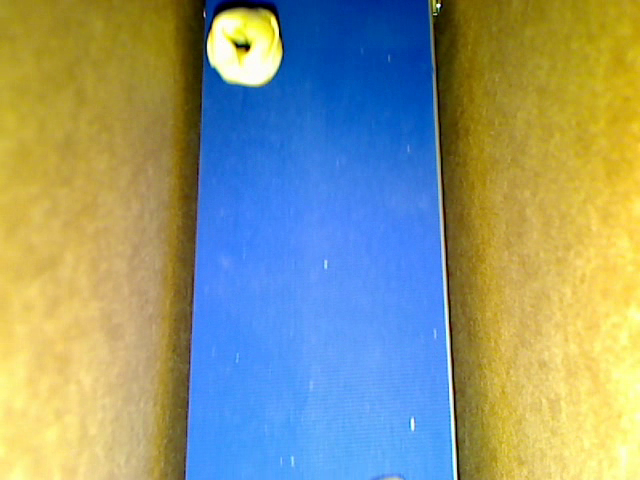tortellini: (207, 8, 282, 85)
